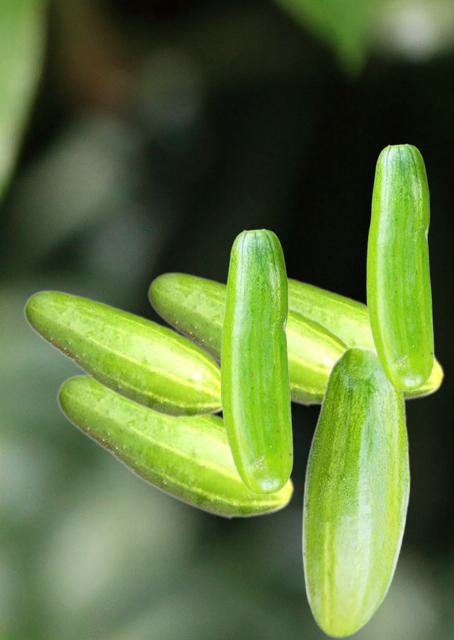cucumber: (56, 373, 294, 519), (301, 345, 409, 637), (147, 271, 350, 406), (23, 289, 221, 419), (288, 276, 444, 402), (220, 228, 292, 494), (366, 143, 433, 390)
